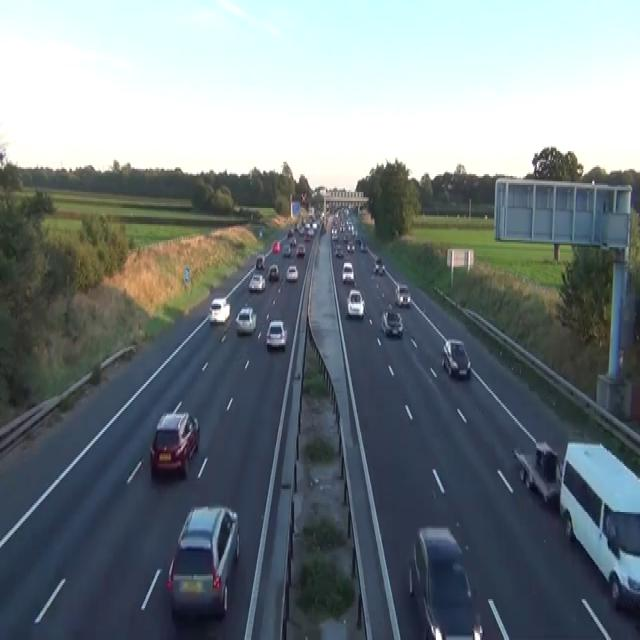Car: (280, 489, 367, 638), (408, 524, 484, 638), (166, 505, 240, 619), (149, 411, 199, 476), (512, 441, 561, 503), (441, 338, 471, 378), (381, 309, 403, 338), (266, 318, 287, 348), (235, 306, 256, 334), (208, 297, 230, 323), (346, 288, 365, 318), (395, 282, 410, 308), (248, 272, 265, 292), (341, 261, 354, 283), (373, 256, 385, 274), (285, 265, 298, 281), (268, 263, 279, 281), (255, 254, 265, 268), (0, 146, 6, 169), (296, 244, 305, 256), (282, 244, 291, 256), (335, 245, 343, 258), (272, 240, 280, 252), (346, 240, 354, 252), (331, 228, 338, 240), (360, 242, 367, 252), (289, 237, 296, 246), (304, 233, 311, 242), (287, 228, 293, 238), (355, 237, 361, 246), (298, 226, 304, 234), (259, 230, 262, 237)
Truck: (558, 439, 639, 612)
